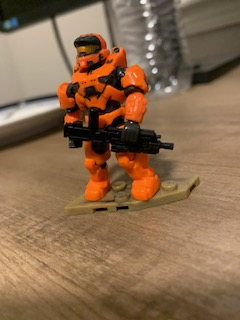rifle: (59, 103, 174, 163)
spartan: (54, 29, 166, 204)
